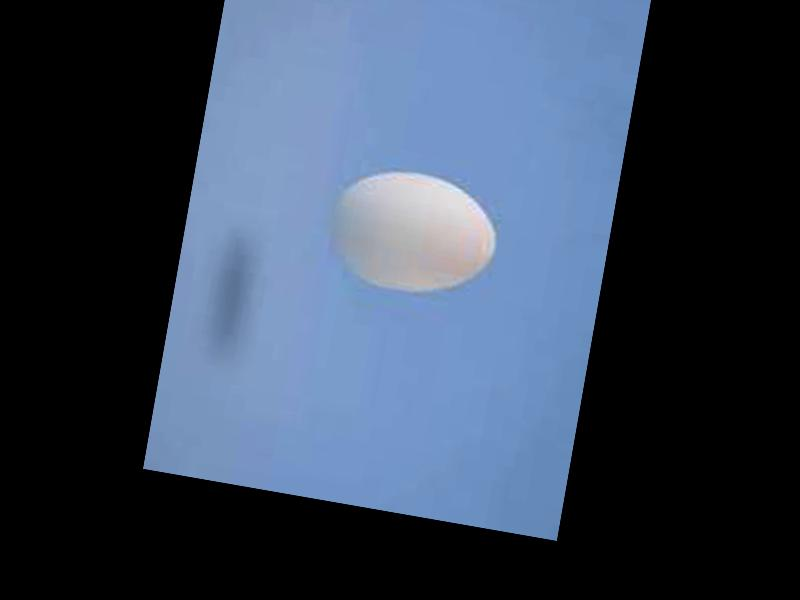Eggs: (320, 159, 506, 306)
